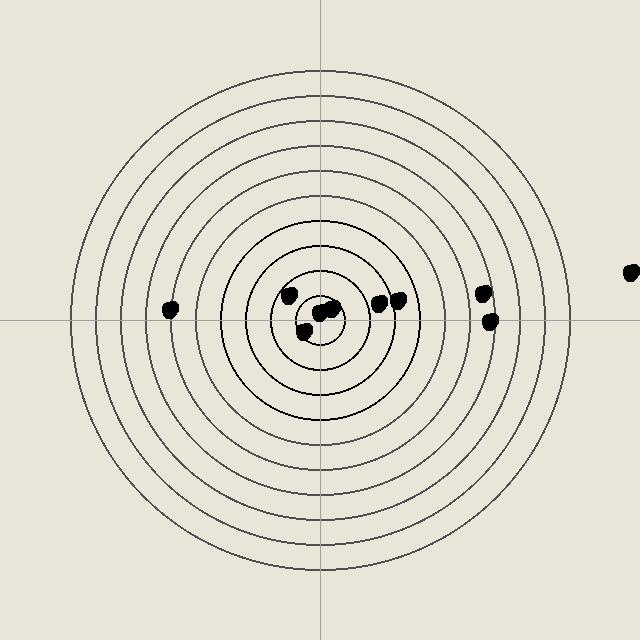horizontal_scatter: (278, 285, 298, 305), (620, 262, 640, 282), (309, 302, 329, 322), (321, 298, 341, 318), (159, 299, 179, 319), (293, 321, 313, 341), (368, 293, 388, 313), (387, 290, 407, 310), (479, 311, 499, 331), (472, 283, 492, 303)
